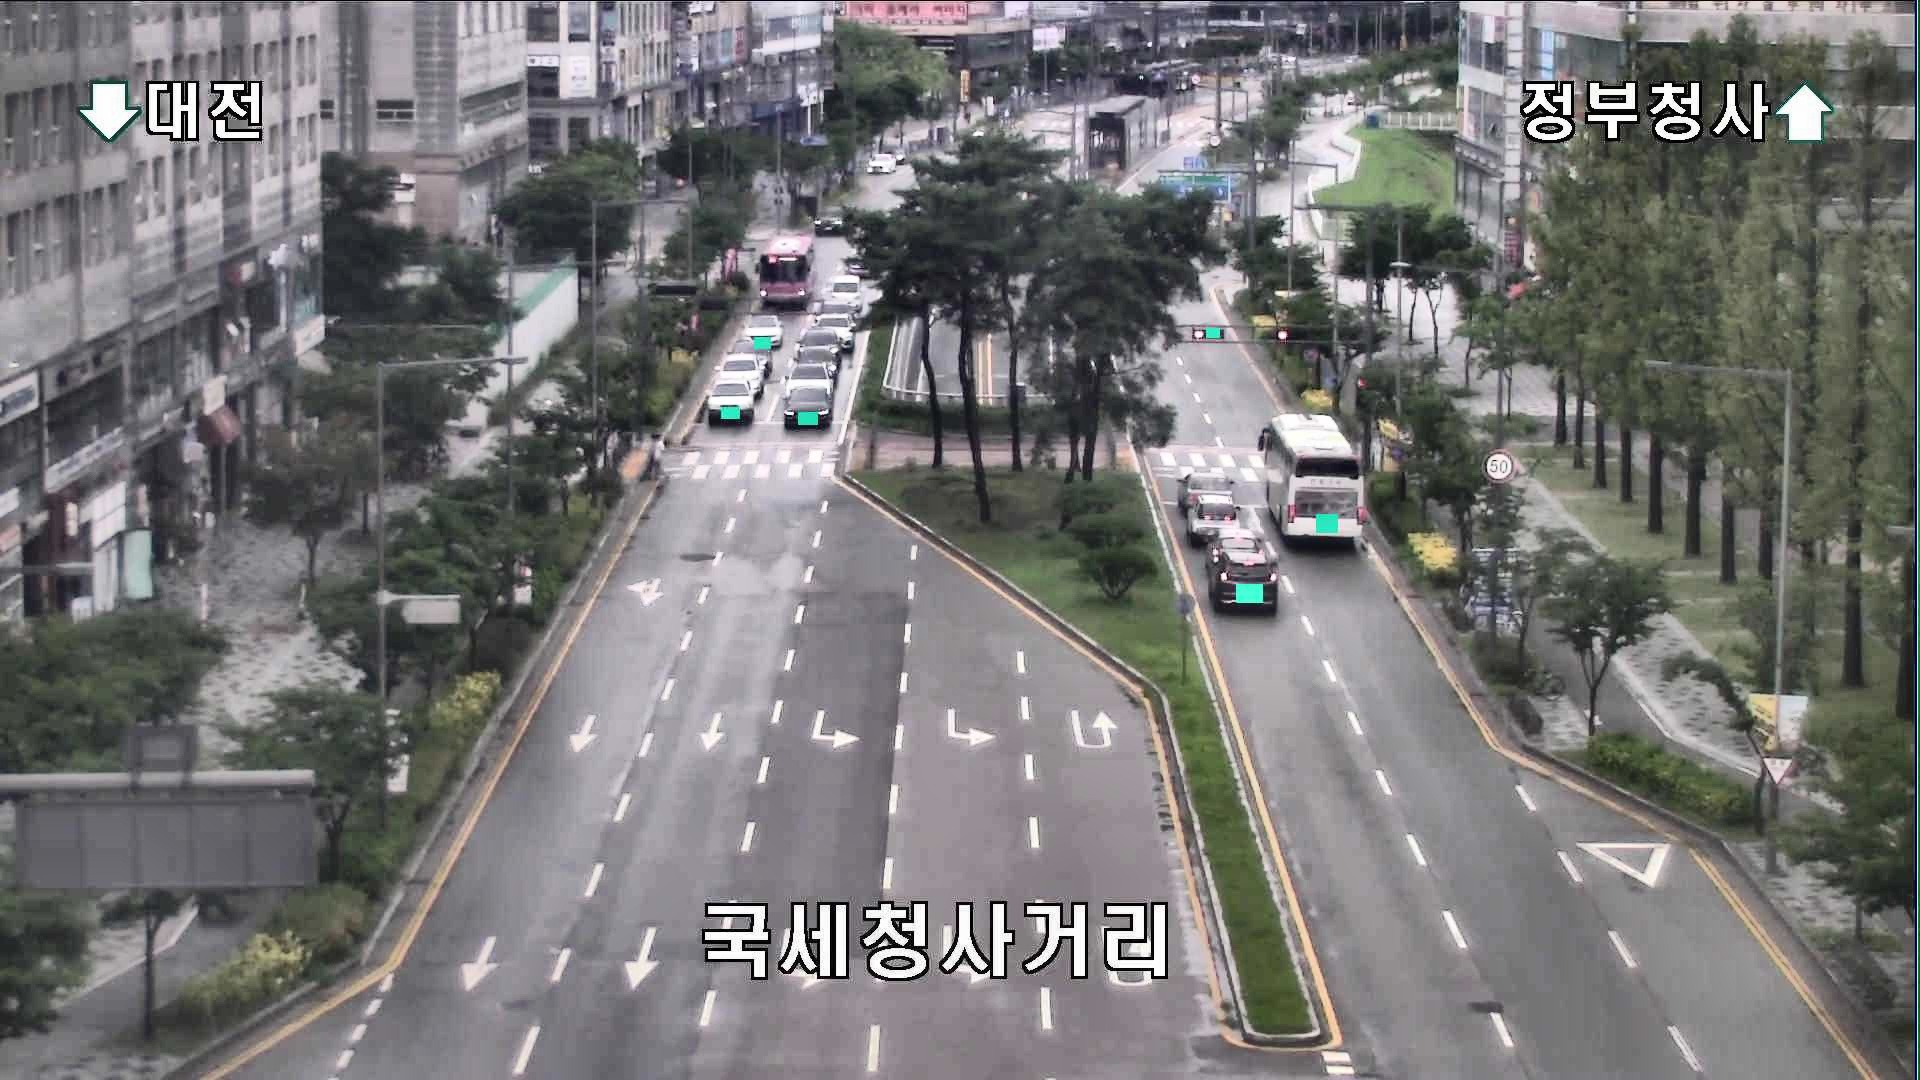crosswalk: (647, 429, 666, 479)
